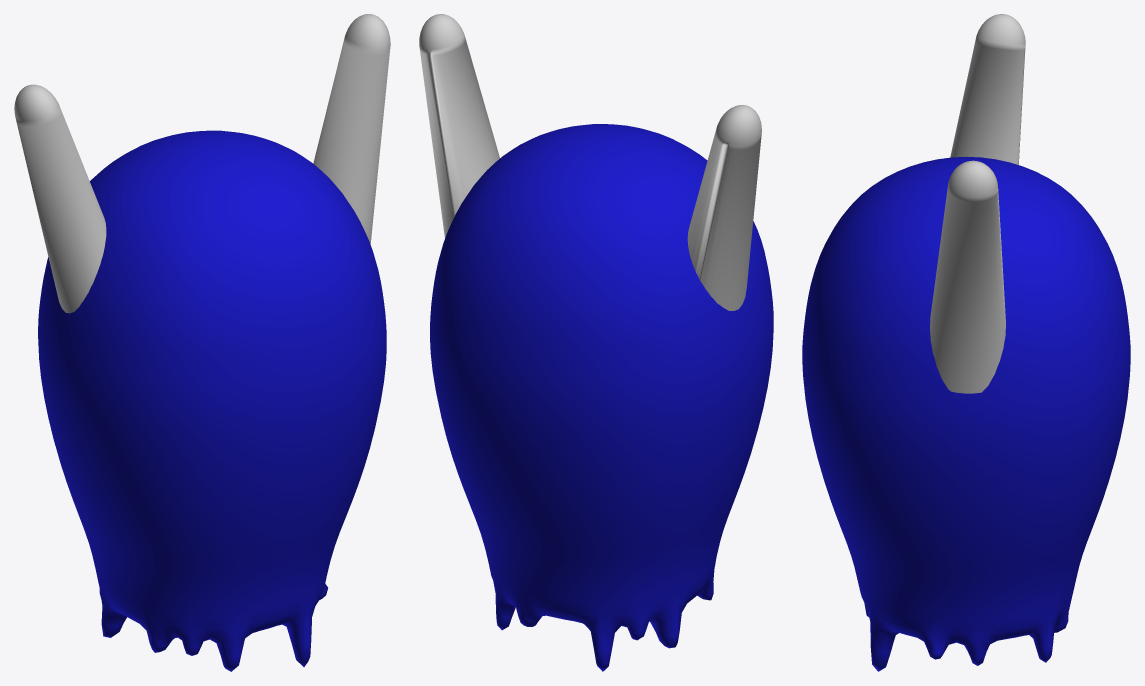
The model's file is beforeThrow_000034.obj.
The picture shows the model from 3 angles, left to right: view 1: azimuth 30°, elevation 25°; view 2: azimuth 150°, elevation 25°; view 3: azimuth 270°, elevation 25°; orthographic projection. The views are drawn at different scales.
Visible parts, largest first — view 1: Cube, Sphere.001, Sphere; view 2: Cube, Sphere.001, Sphere; view 3: Cube, Sphere, Sphere.001.
Part boxes in pixels (bbox=[...]): Cube: bbox=[38, 130, 386, 671]; Sphere.001: bbox=[14, 84, 106, 313]; Sphere: bbox=[313, 14, 390, 243]; Cube: bbox=[430, 124, 773, 671]; Sphere.001: bbox=[687, 105, 761, 310]; Sphere: bbox=[419, 14, 499, 237]; Cube: bbox=[802, 156, 1130, 671]; Sphere: bbox=[930, 160, 1005, 393]; Sphere.001: bbox=[950, 14, 1025, 164].
Size of the model in its own units: 0.3413 by 0.5414 by 0.2859.
